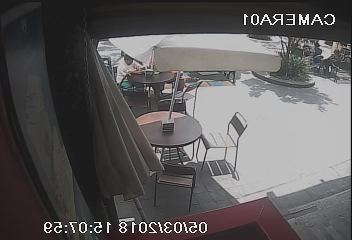libre: (119, 96, 251, 205)
ocupado: (109, 49, 194, 102)
